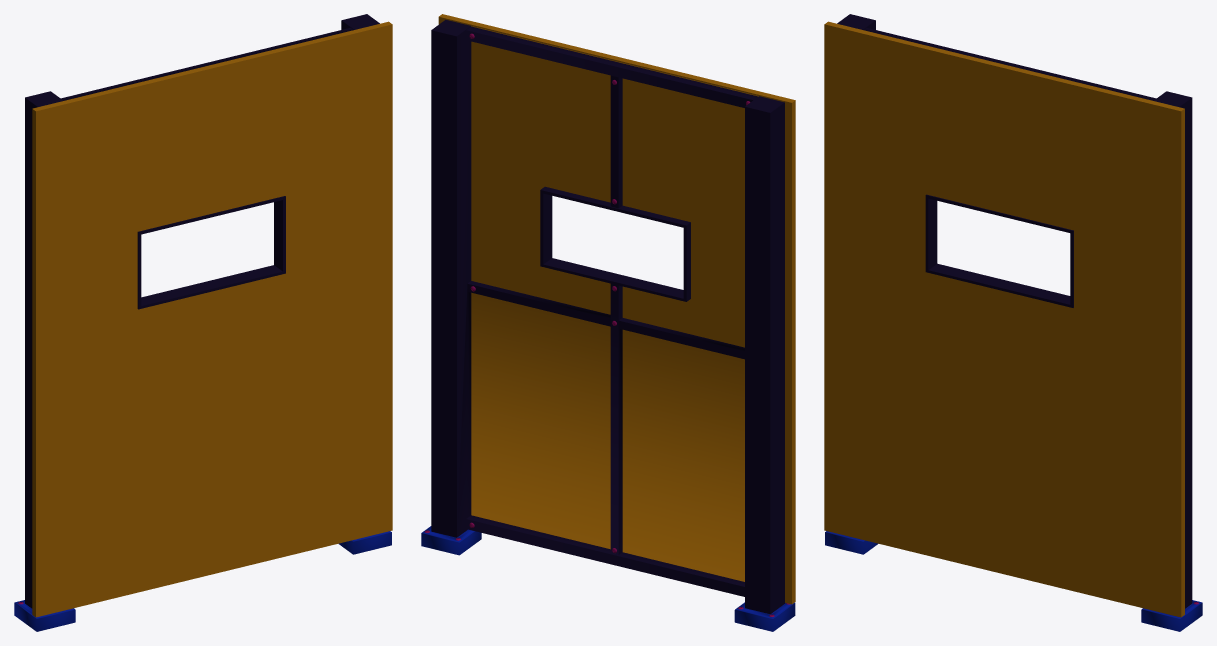
Rendered from Barricade Vol 2.FBX.
3 views of the same model, side by side, from view 1: azimuth 30°, elevation 25°; view 2: azimuth 150°, elevation 25°; view 3: azimuth 330°, elevation 25° (orthographic).
Visible parts, largest first — view 1: Barricade Vol 2; view 2: Barricade Vol 2; view 3: Barricade Vol 2.
Part boxes in pixels (x1,y1,x2,y2): Barricade Vol 2: (14, 14, 392, 631); Barricade Vol 2: (421, 14, 795, 631); Barricade Vol 2: (824, 14, 1202, 631).
Size of the model in its own units: 111 by 154 by 12.25.
